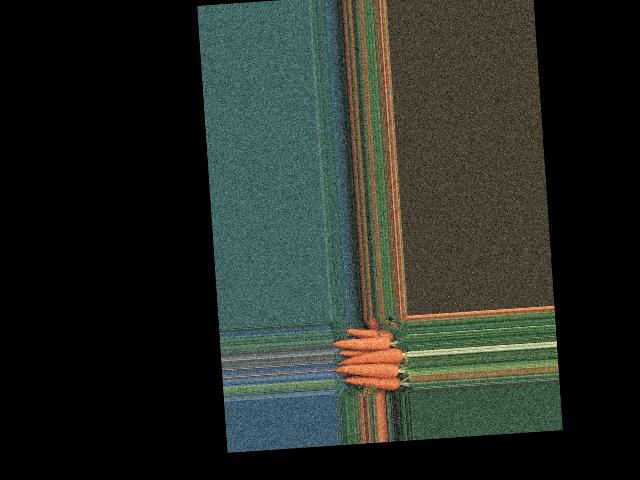carrot: (334, 332, 394, 354)
